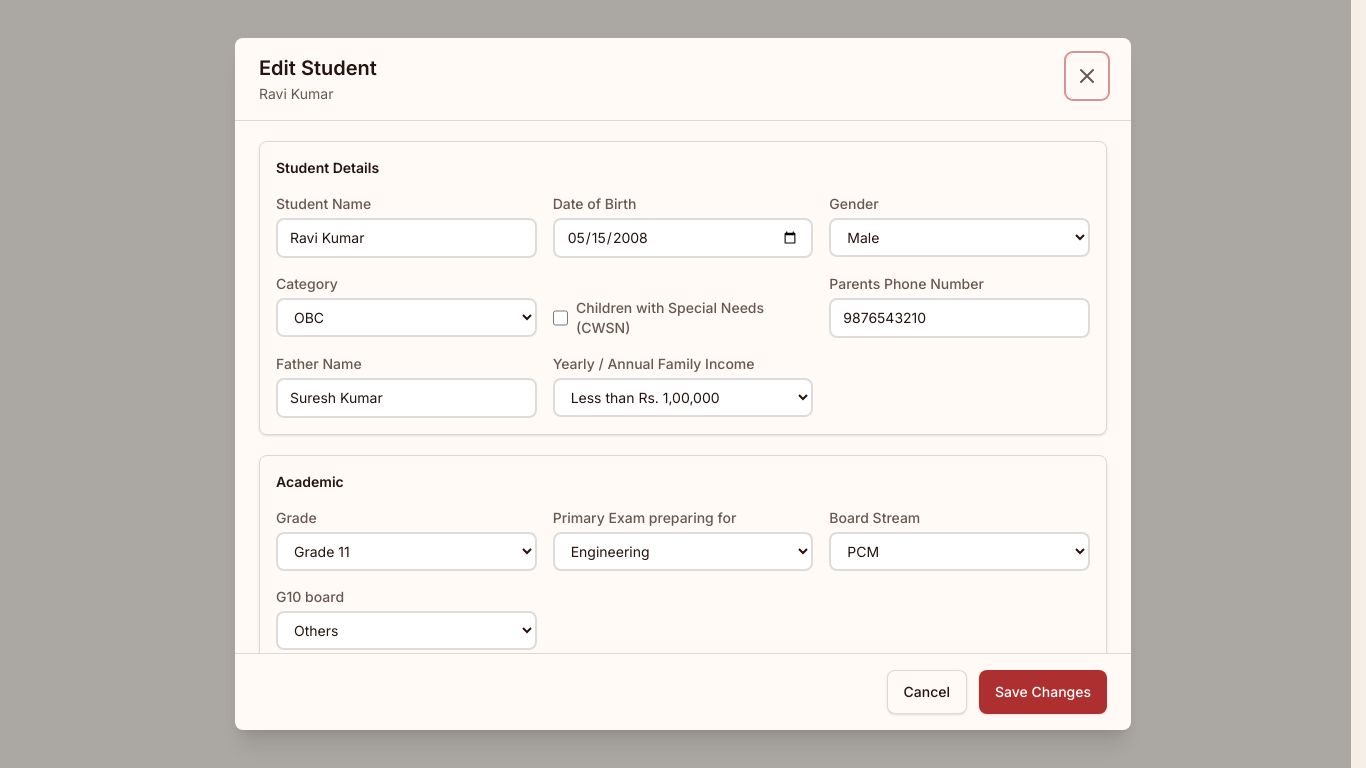
Test: EditStudentModal › does not submit when nothing changed
The image size is (1366, 768).
Step 1. Click the button "Save Changes" → click(1043, 692), box [979, 670, 1107, 714]
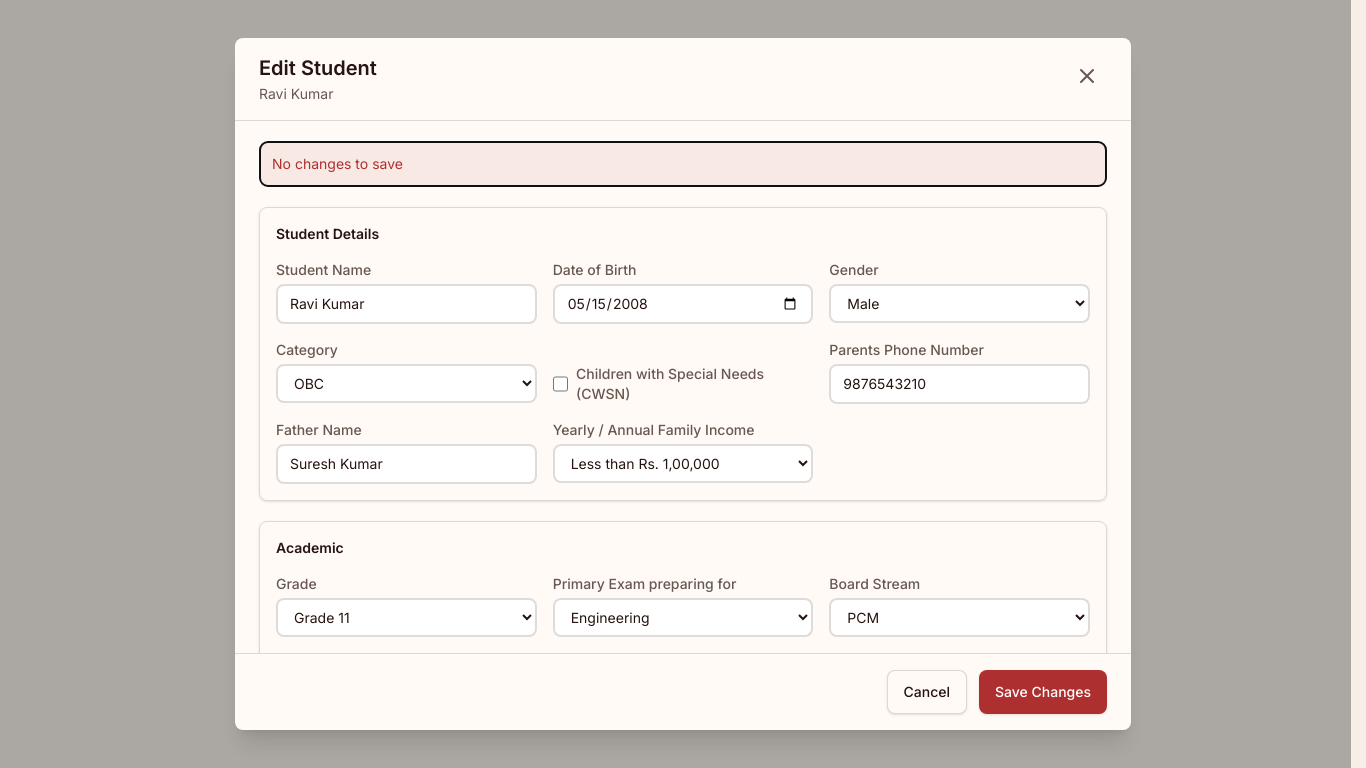
Now the text "No changes to save" is shown, box [259, 141, 1107, 187]
